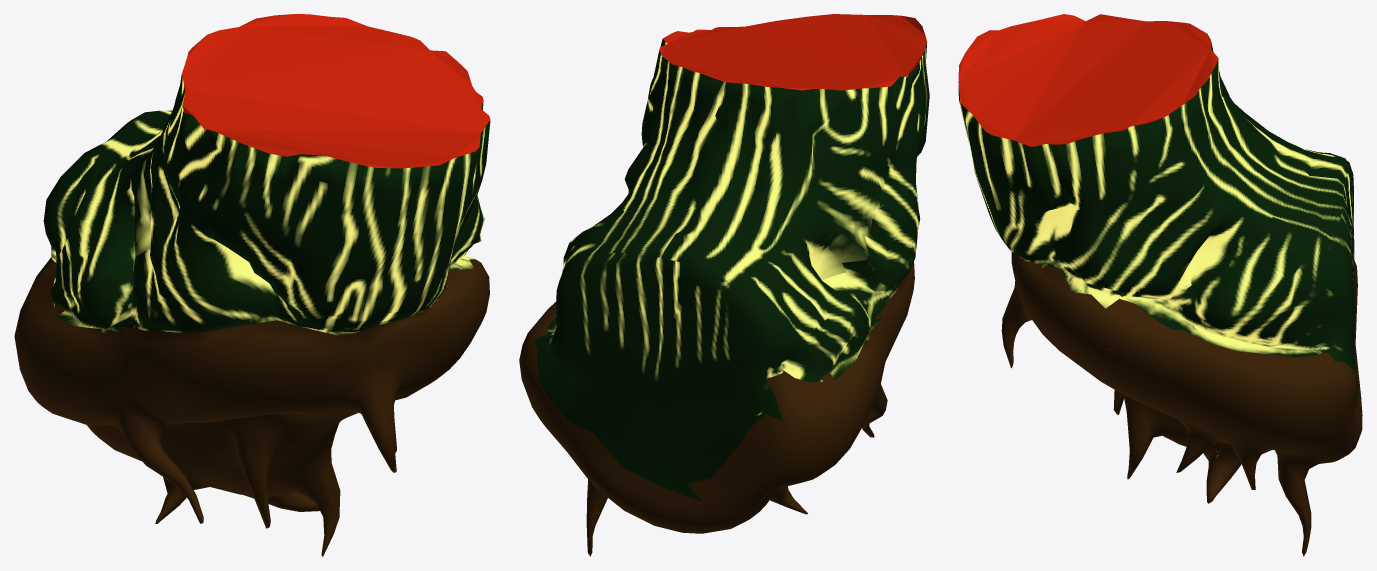
The model's file is Trunk_Lower_Collider.fbx.
3 renders of one model, left to right at view 1: azimuth 30°, elevation 25°; view 2: azimuth 150°, elevation 25°; view 3: azimuth 270°, elevation 25°, orthographic. The views are drawn at different scales.
Visible parts, largest first — view 1: tree_trunkBot_lp; view 2: tree_trunkBot_lp; view 3: tree_trunkBot_lp.
Boxes of the visible parts, x1,y1,x2,y2 form: tree_trunkBot_lp: (14, 14, 490, 556); tree_trunkBot_lp: (519, 14, 929, 556); tree_trunkBot_lp: (958, 14, 1362, 556).
Size of the model in its own units: 27.48 by 30.67 by 38.26.
